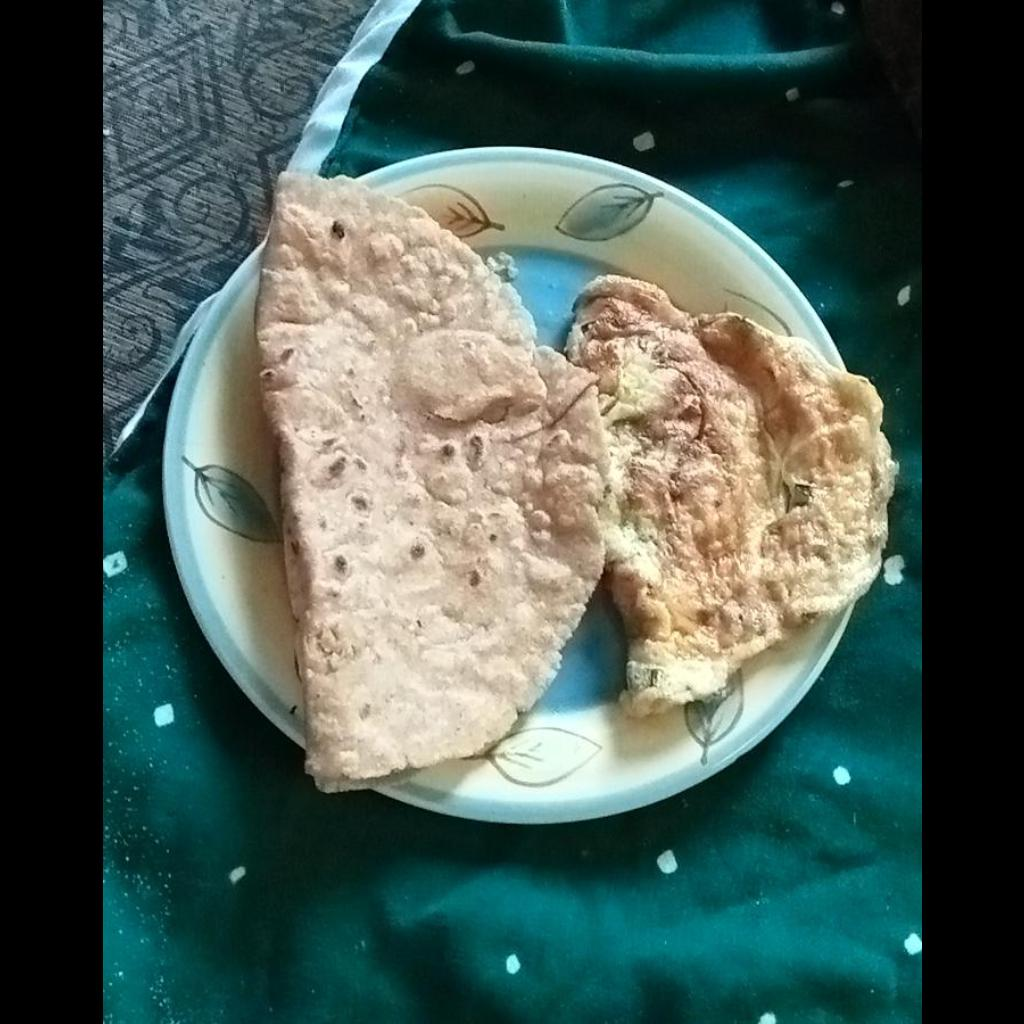egg-poached: (566, 274, 895, 712)
ruti: (250, 172, 603, 795)
